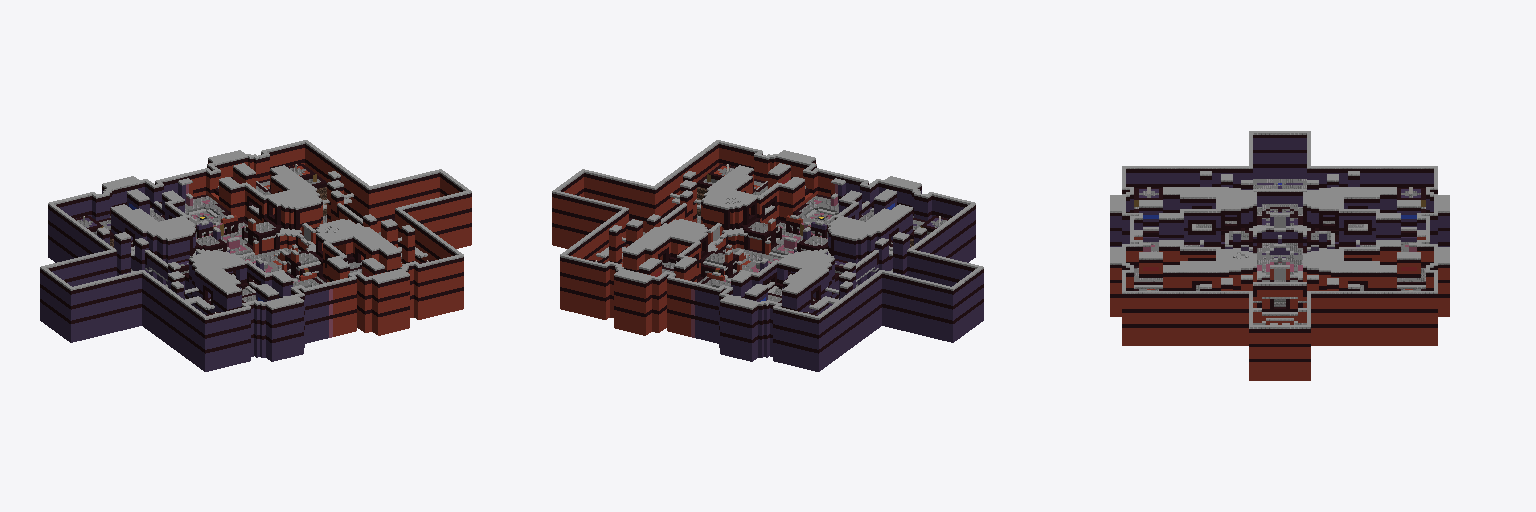
3 renders of one model, left to right at view 1: azimuth 30°, elevation 25°; view 2: azimuth 150°, elevation 25°; view 3: azimuth 270°, elevation 25°, orthographic.
Bounding box in the file's own units: 113 × 14.5 × 83.
22 materials, 5 textured.